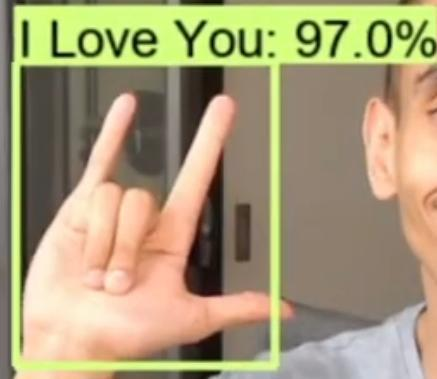Love_you: (0, 86, 294, 379)
